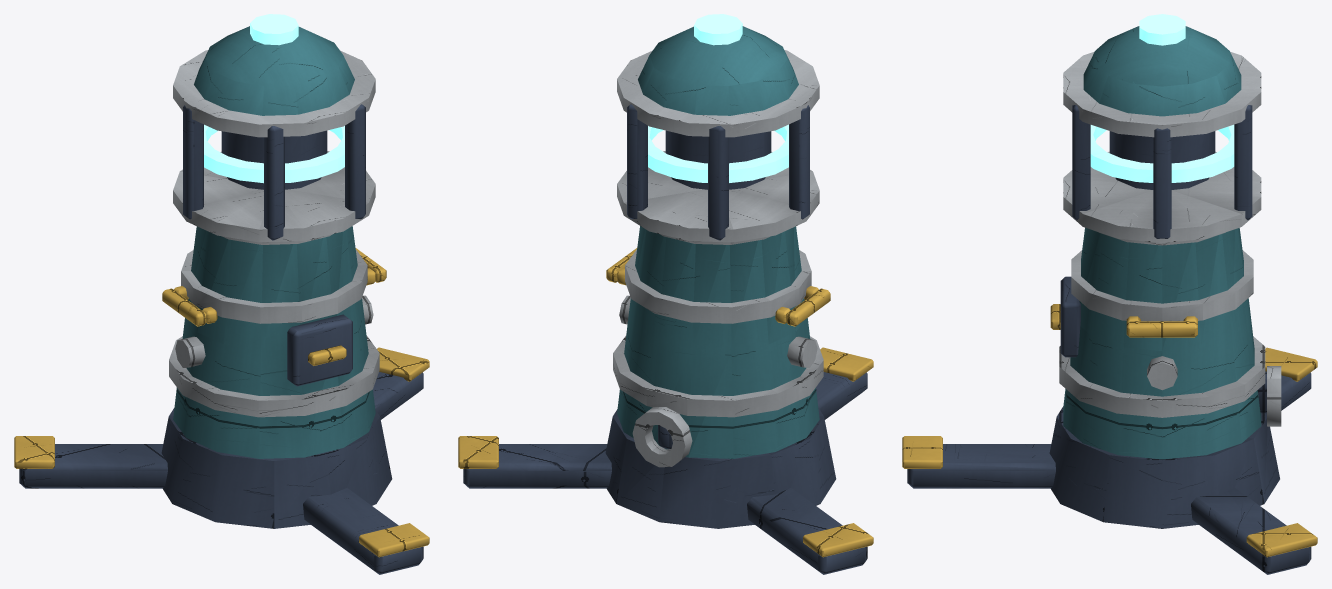
3 views of the same model, side by side, from view 1: azimuth 30°, elevation 25°; view 2: azimuth 150°, elevation 25°; view 3: azimuth 270°, elevation 25° (orthographic).
Visible parts, largest first — view 1: DL003_DiveBeacon_graphite_navy, DL003_DiveBeacon_teal_shell, DL003_DiveBeacon_titanium, DL003_DiveBeacon_amber_accent, DL003_DiveBeacon_emissive_cyan; view 2: DL003_DiveBeacon_teal_shell, DL003_DiveBeacon_graphite_navy, DL003_DiveBeacon_titanium, DL003_DiveBeacon_amber_accent, DL003_DiveBeacon_emissive_cyan; view 3: DL003_DiveBeacon_teal_shell, DL003_DiveBeacon_graphite_navy, DL003_DiveBeacon_titanium, DL003_DiveBeacon_amber_accent, DL003_DiveBeacon_emissive_cyan.
Boxes of the visible parts, <box> form: DL003_DiveBeacon_graphite_navy: <box>19,104,423,574</box>; DL003_DiveBeacon_teal_shell: <box>173,26,375,458</box>; DL003_DiveBeacon_titanium: <box>169,50,379,417</box>; DL003_DiveBeacon_amber_accent: <box>14,248,429,557</box>; DL003_DiveBeacon_emissive_cyan: <box>204,14,344,183</box>; DL003_DiveBeacon_teal_shell: <box>617,26,819,458</box>; DL003_DiveBeacon_graphite_navy: <box>463,104,867,574</box>; DL003_DiveBeacon_titanium: <box>613,50,823,467</box>; DL003_DiveBeacon_amber_accent: <box>458,248,873,557</box>; DL003_DiveBeacon_emissive_cyan: <box>648,14,788,182</box>; DL003_DiveBeacon_teal_shell: <box>1063,26,1261,459</box>; DL003_DiveBeacon_graphite_navy: <box>907,105,1311,574</box>; DL003_DiveBeacon_titanium: <box>1059,51,1281,426</box>; DL003_DiveBeacon_amber_accent: <box>902,304,1317,557</box>; DL003_DiveBeacon_emissive_cyan: <box>1090,14,1234,182</box>.
Size of the model in its own units: 2.36 by 2.47 by 2.04.
5 materials, 4 textured.
